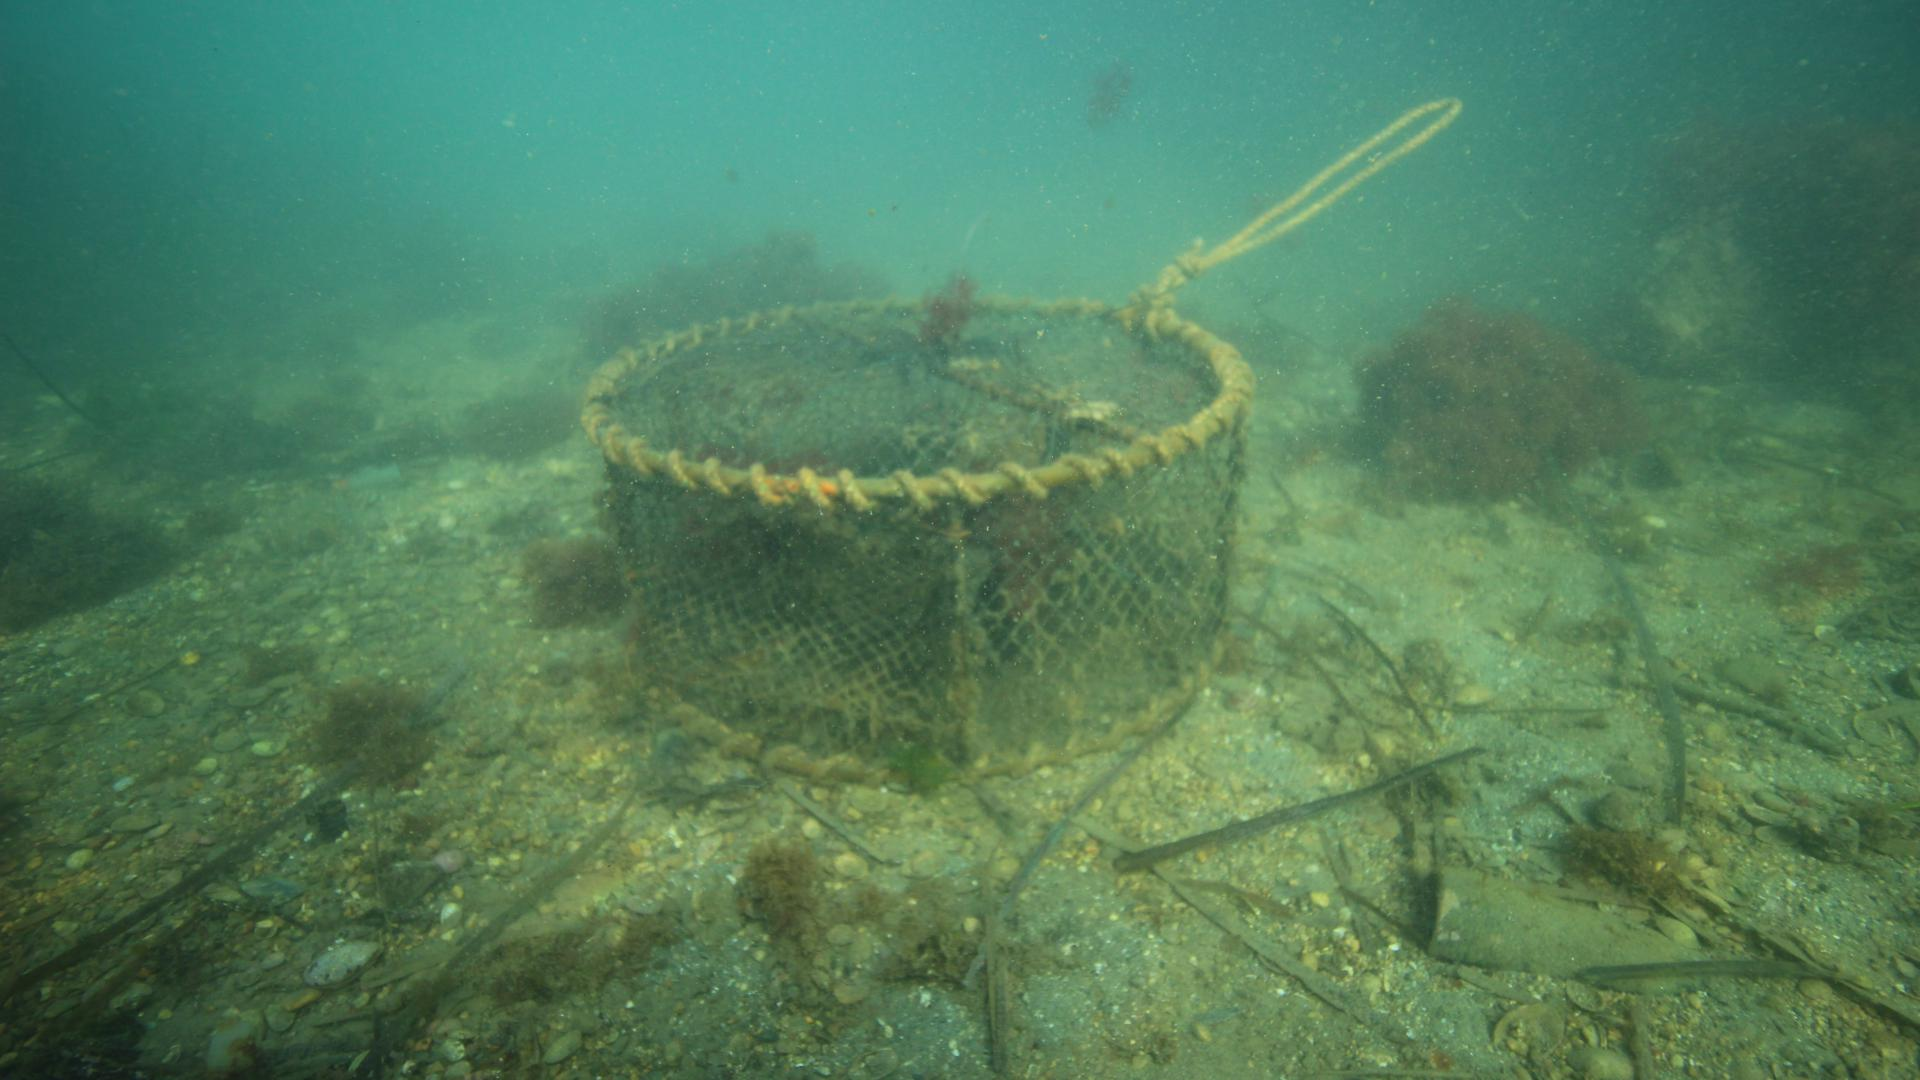circular fish trap: (576, 293, 1251, 789)
rope: (1168, 96, 1462, 277)
